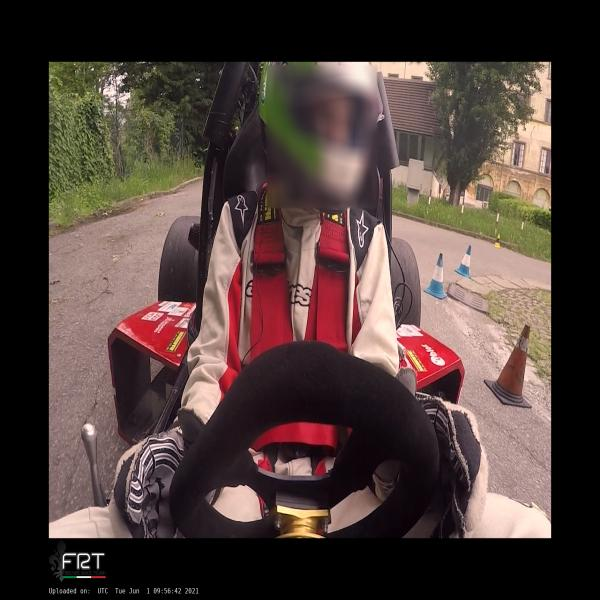blue_cone: (424, 253, 447, 299), (454, 245, 471, 278)
unknown_cone: (484, 324, 532, 408)
yellow_cone: (493, 233, 501, 249)
